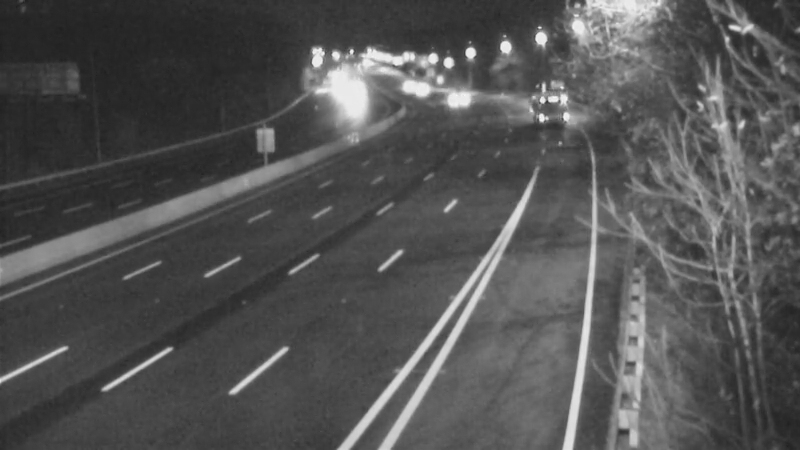vehicle: (380, 60, 430, 110), (392, 64, 442, 114), (516, 78, 566, 128), (433, 69, 483, 119), (323, 80, 373, 130)
